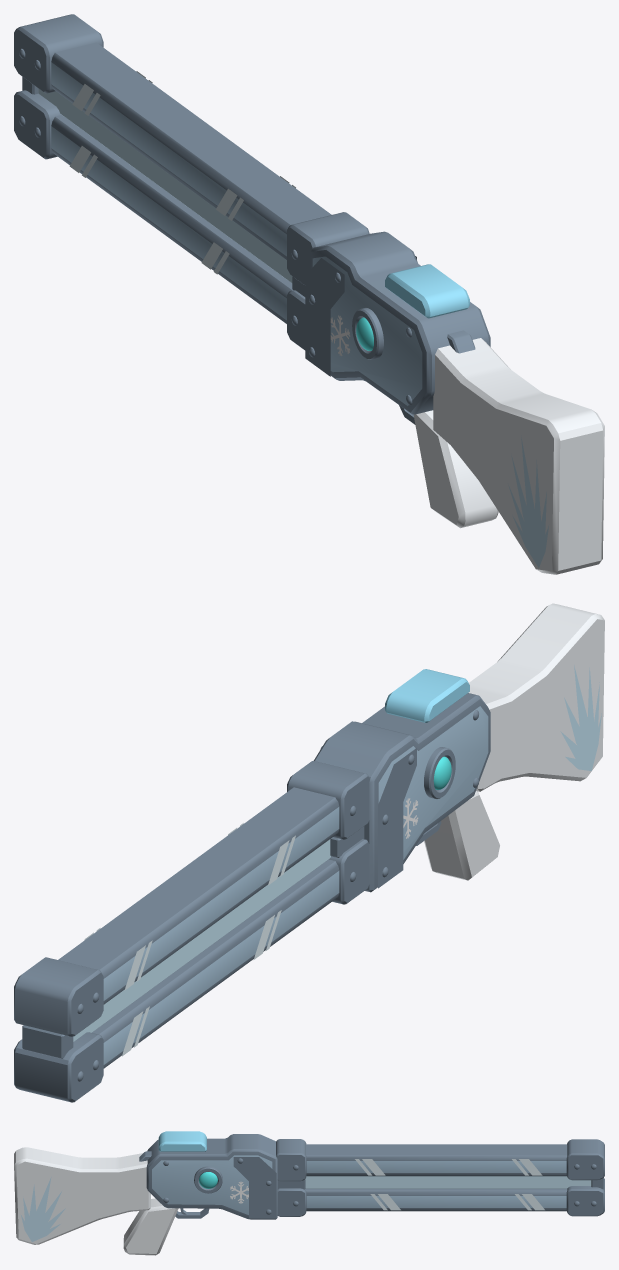
File: weapon_railgun.glb
The picture shows the model from 3 angles, top to bottom: view 1: azimuth 30°, elevation 25°; view 2: azimuth 150°, elevation 25°; view 3: azimuth 270°, elevation 25°; orthographic projection. The views are drawn at different scales.
Visible parts, largest first — view 1: Rail_Body, Rail_Stock, Rail_Core, Rail_Crystal, Rail_Shards, Rail_Stripes, Rail_Bezel; view 2: Rail_Body, Rail_Stock, Rail_Core, Rail_Crystal, Rail_Shards, Rail_Stripes, Rail_Bezel; view 3: Rail_Body, Rail_Stock, Rail_Core, Rail_Shards, Rail_Stripes, Rail_Crystal, Rail_Bezel, Rail_Gem, Rail_Snow.
Boxes of the visible parts, box(x1,y1,x2,y2) form: Rail_Body: box(14, 14, 490, 424); Rail_Stock: box(413, 338, 604, 574); Rail_Core: box(38, 89, 292, 282); Rail_Crystal: box(385, 264, 469, 318); Rail_Shards: box(508, 435, 548, 567); Rail_Stripes: box(69, 71, 295, 274); Rail_Bezel: box(352, 308, 383, 359); Rail_Body: box(14, 693, 490, 1102); Rail_Stock: box(424, 603, 604, 880); Rail_Core: box(73, 839, 330, 1041); Rail_Crystal: box(385, 669, 469, 722); Rail_Shards: box(560, 665, 601, 770); Rail_Stripes: box(84, 823, 295, 1056); Rail_Bezel: box(424, 747, 455, 798); Rail_Body: box(139, 1134, 604, 1219); Rail_Stock: box(14, 1147, 178, 1255); Rail_Core: box(305, 1176, 591, 1188); Rail_Shards: box(21, 1177, 65, 1241); Rail_Stripes: box(355, 1159, 544, 1210); Rail_Crystal: box(158, 1131, 206, 1151); Rail_Bezel: box(194, 1166, 222, 1193); Rail_Gem: box(199, 1172, 217, 1188); Rail_Snow: box(230, 1181, 248, 1203).
Bounding box in the file's own units: 0.1099 × 0.2518 × 1.18.
